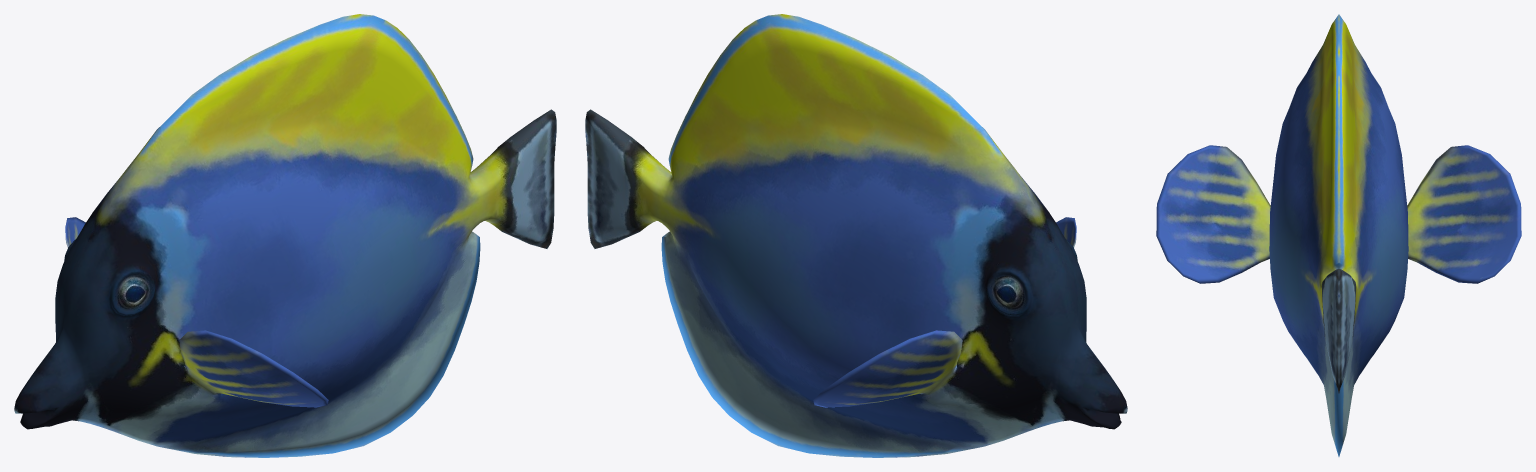
3 views of the same model, side by side, from view 1: azimuth 30°, elevation 25°; view 2: azimuth 150°, elevation 25°; view 3: azimuth 270°, elevation 25° (orthographic). The views are drawn at different scales.
Parts seen in each view (by area): view 1: Fish; view 2: Fish; view 3: Fish.
Part boxes in pixels (x1,y1,x2,y2): Fish: [14, 14, 556, 457]; Fish: [585, 14, 1127, 457]; Fish: [1156, 14, 1521, 456].
Size of the model in its own units: 2215 by 1695 by 1406.
1 material, 1 textured.
